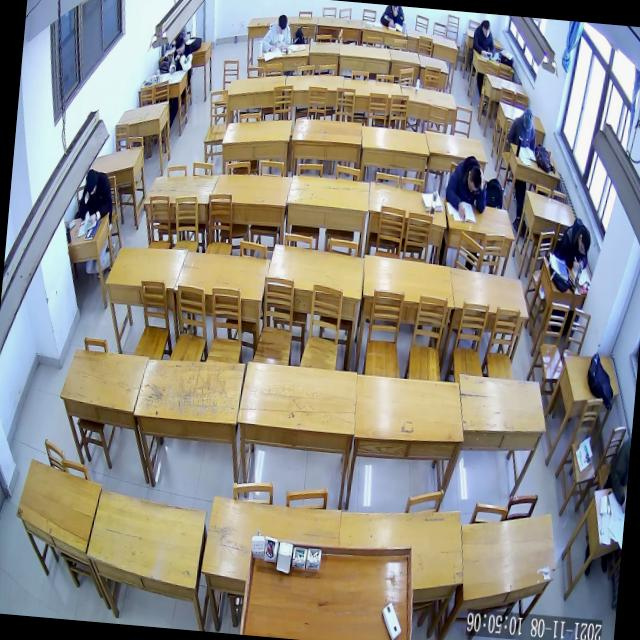down: (464, 163, 484, 195), (575, 224, 593, 258), (82, 168, 100, 200), (520, 105, 535, 135), (173, 34, 186, 58), (276, 12, 288, 36), (480, 18, 492, 40)
sit: (441, 151, 490, 223), (550, 211, 594, 274), (74, 165, 115, 228), (505, 102, 539, 149), (260, 9, 294, 54), (166, 34, 195, 76), (470, 18, 498, 58)
